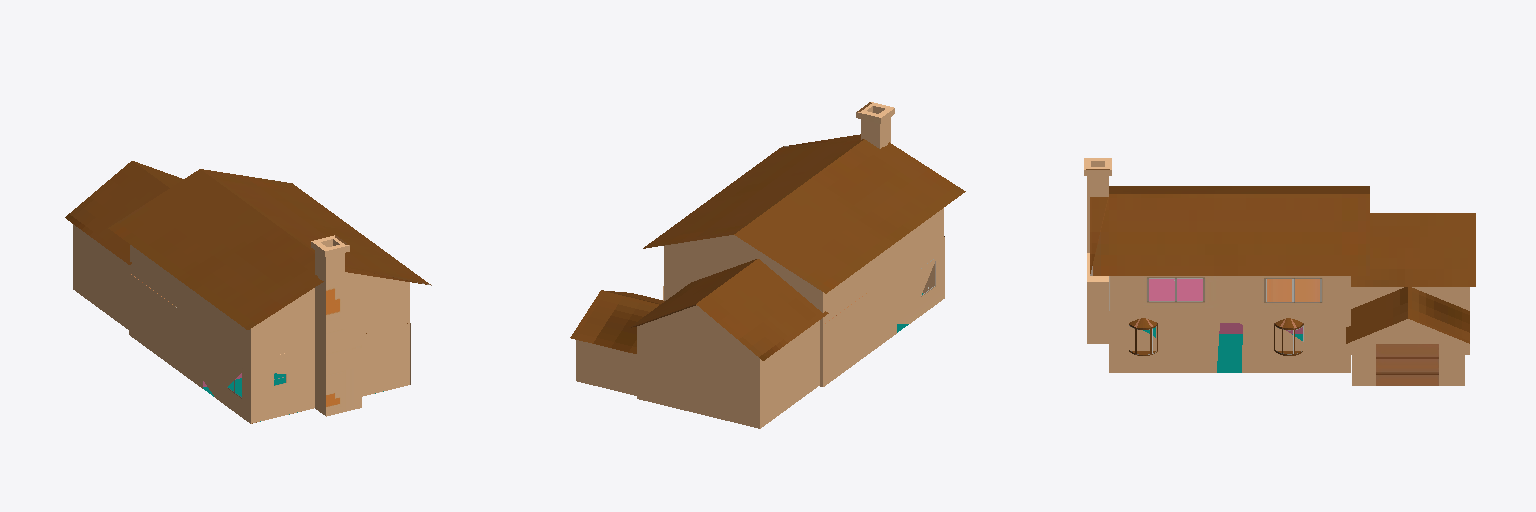
The picture shows the model from 3 angles: view 1: azimuth 30°, elevation 25°; view 2: azimuth 150°, elevation 25°; view 3: azimuth 270°, elevation 25°; orthographic projection.
Parts seen in each view (by area): view 1: Cubo; view 2: Cubo; view 3: Cubo.
Part boxes in pixels (bbox=[...]): Cubo: bbox=[65, 161, 431, 423]; Cubo: bbox=[570, 102, 965, 428]; Cubo: bbox=[1084, 158, 1475, 385].
Size of the model in its own units: 56.98 by 44.14 by 94.01.
1 materials, 1 textured.